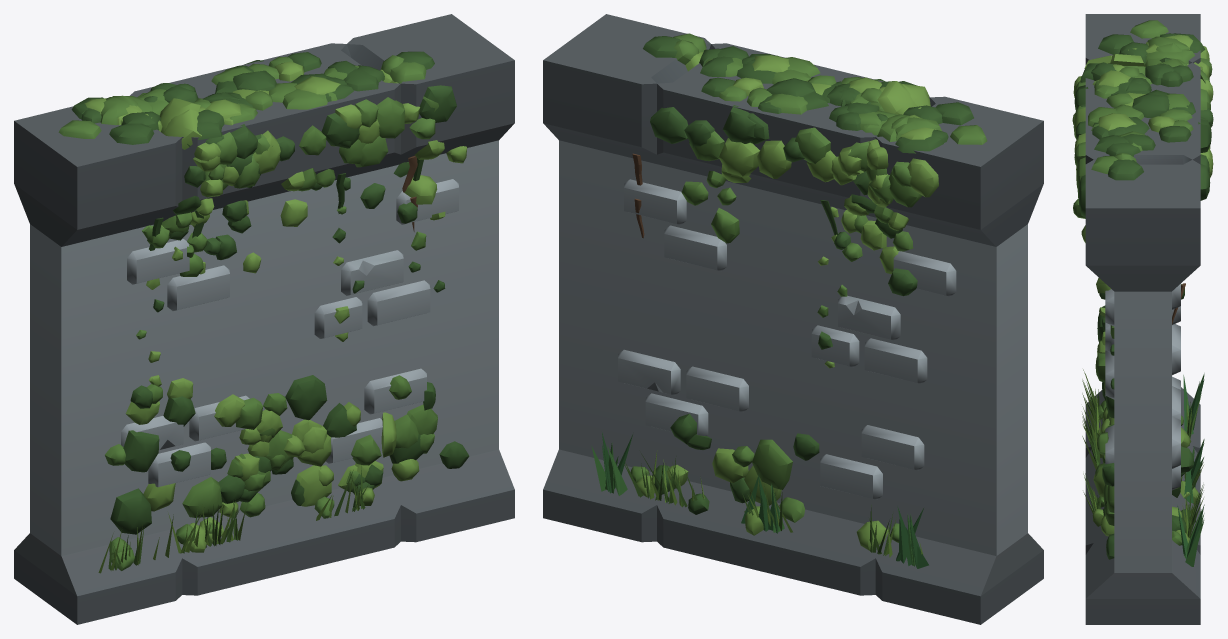
Rendered from wall_overgrown_C.glb.
The picture shows the model from 3 angles, left to right: view 1: azimuth 30°, elevation 25°; view 2: azimuth 150°, elevation 25°; view 3: azimuth 270°, elevation 25°; orthographic projection. The views are drawn at different scales.
Visible parts, largest first — view 1: Item; view 2: Item; view 3: Item.
Part boxes in pixels (<box>): Item: <box>14,14,514,624</box>; Item: <box>543,14,1043,624</box>; Item: <box>1072,14,1213,624</box>.
Size of the model in its own units: 4 by 4.17 by 1.23.
Materials: 3 (3 with a texture image).
